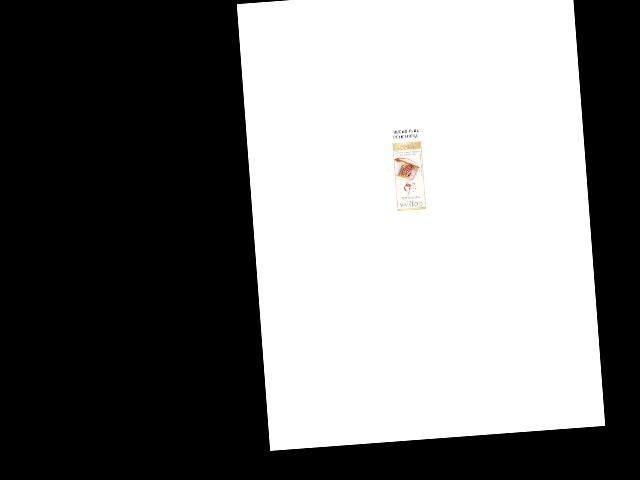chocolate: (389, 138, 425, 212)
